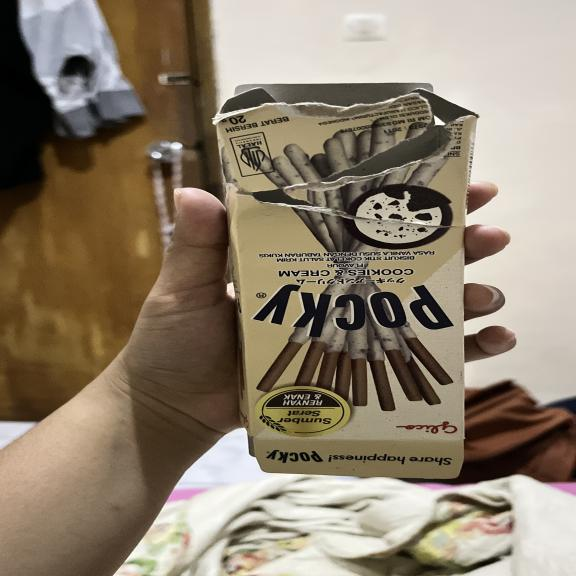Kertas: (218, 111, 472, 444)
